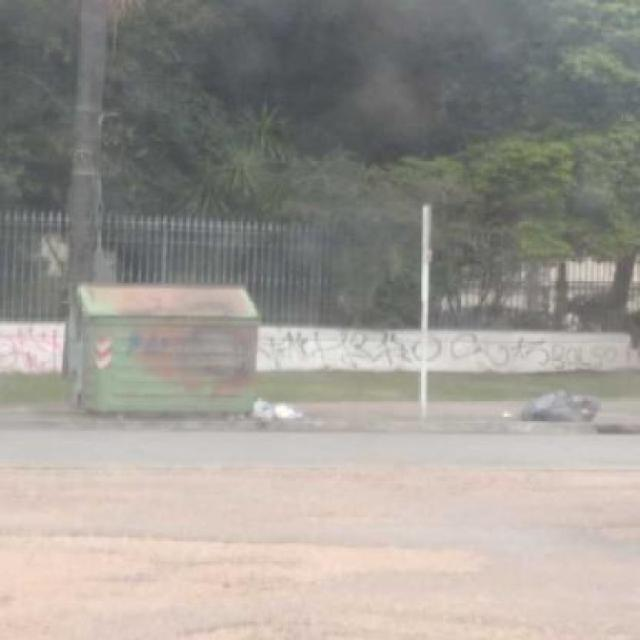garbage: (517, 389, 631, 434), (245, 394, 336, 431)
